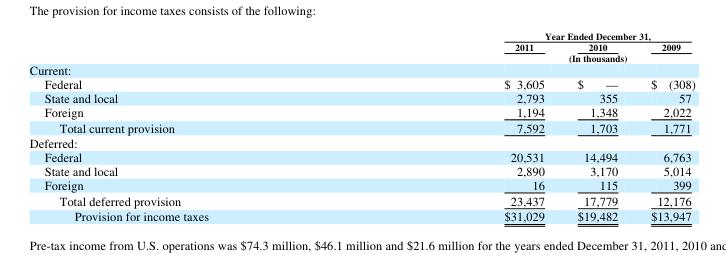table: (28, 28, 694, 223)
table column: (28, 28, 355, 223), (355, 28, 560, 223), (560, 28, 633, 223), (633, 28, 694, 223)
table column header: (28, 28, 694, 62)
table projected row header: (28, 134, 694, 149), (28, 62, 694, 76)
table row: (28, 118, 694, 134), (28, 191, 694, 207), (28, 207, 694, 223), (28, 103, 694, 118), (28, 134, 694, 149), (28, 62, 694, 76), (28, 76, 694, 90), (28, 149, 694, 163), (28, 163, 694, 177), (28, 177, 694, 191), (28, 28, 694, 41), (28, 90, 694, 103), (28, 41, 694, 52), (28, 52, 694, 62)
table spanning cell: (355, 28, 694, 41), (355, 52, 694, 62)
